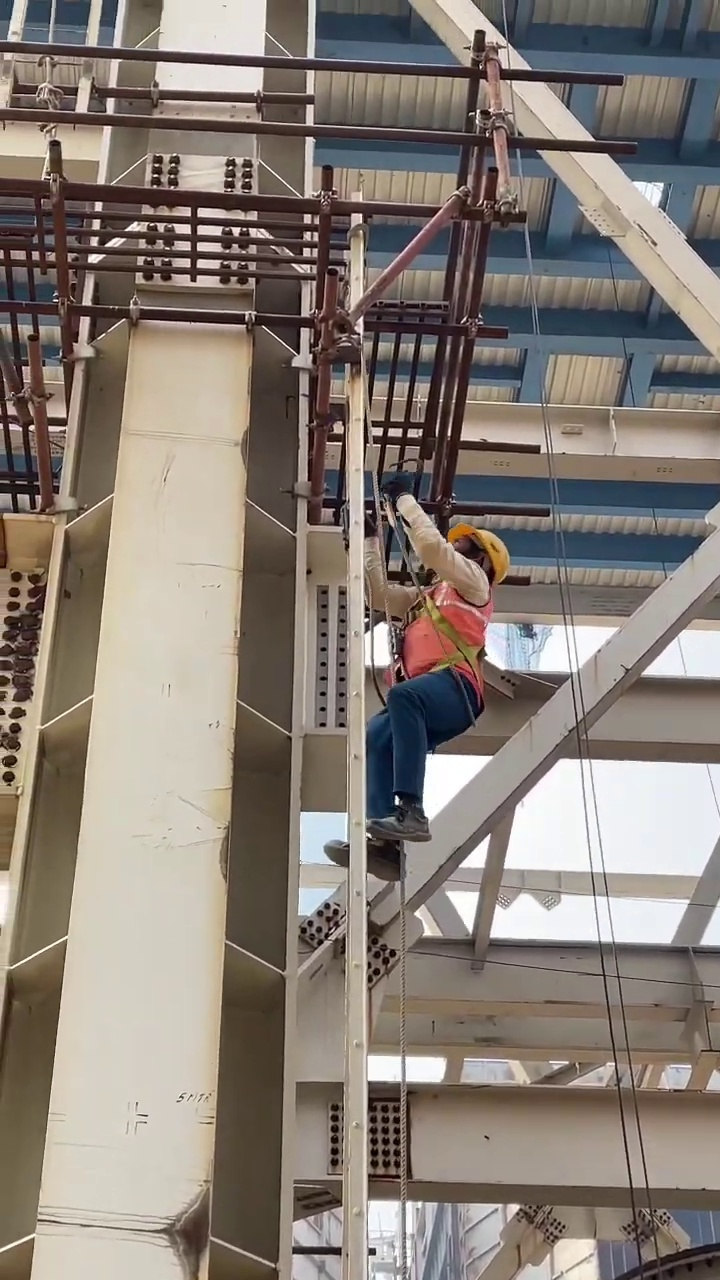Helmet: (447, 524, 511, 583)
Person: (314, 522, 511, 884)
Safety_Harness: (388, 569, 494, 728)
Safety_shoes: (324, 837, 404, 882), (367, 801, 431, 843)
